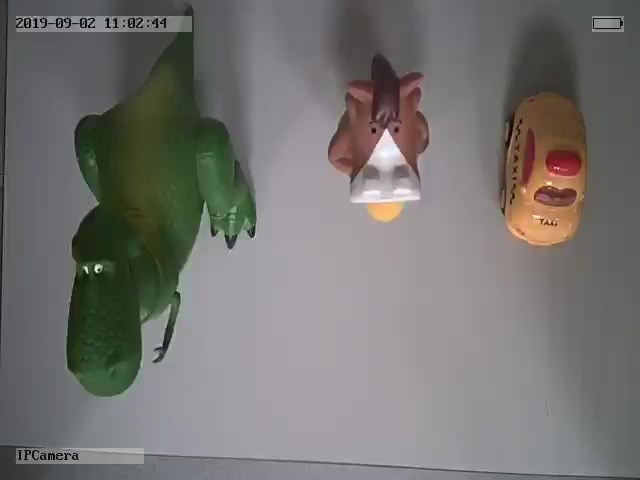car: (500, 89, 590, 247)
horse: (324, 52, 435, 226)
rex: (60, 34, 260, 399)
